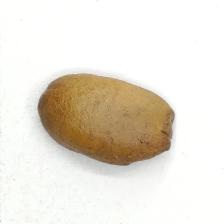NG: (124, 112, 173, 166)
